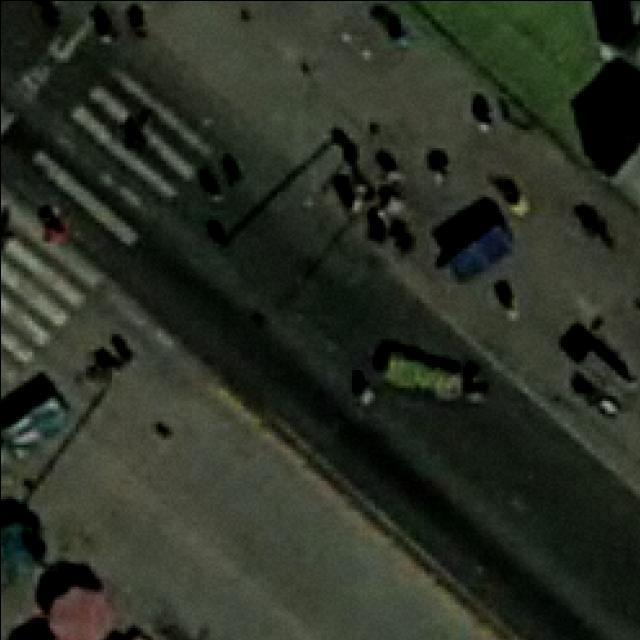vendedor_ambulante: (41, 565, 114, 640)
